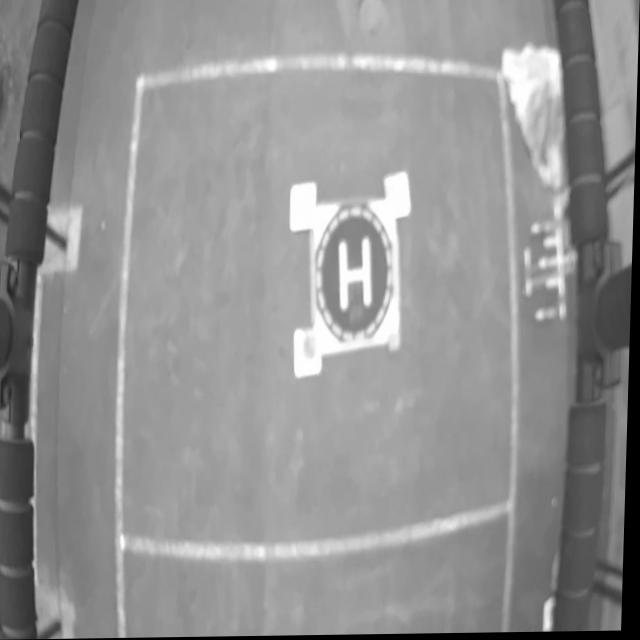Helipad: (339, 239, 374, 313)
